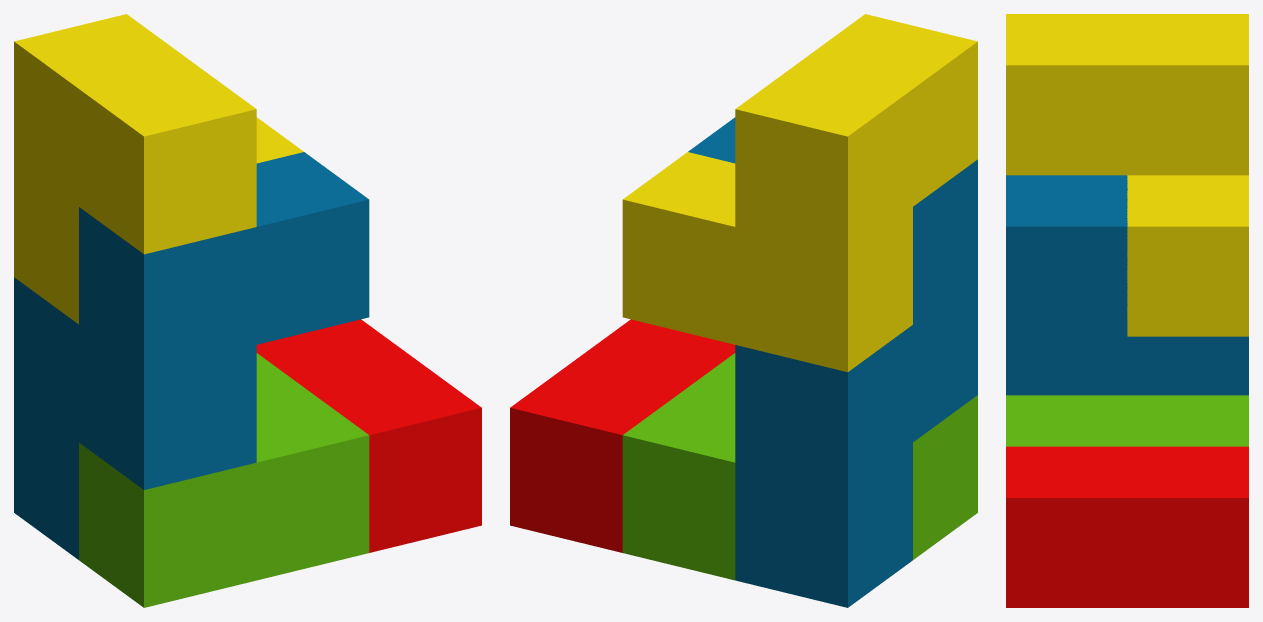
The picture shows the model from 3 angles, left to right: view 1: azimuth 30°, elevation 25°; view 2: azimuth 150°, elevation 25°; view 3: azimuth 270°, elevation 25°; orthographic projection. The views are drawn at different scales.
Parts seen in each view (by area): view 1: mergedBlocks(Clone); view 2: mergedBlocks(Clone); view 3: mergedBlocks(Clone).
Part boxes in pixels (left/top/right/bottom): mergedBlocks(Clone): left=14, top=14, right=481, bottom=607; mergedBlocks(Clone): left=510, top=14, right=977, bottom=607; mergedBlocks(Clone): left=1006, top=14, right=1248, bottom=607.
Size of the model in its own units: 3 by 4 by 2.
4 materials, 4 textured.
